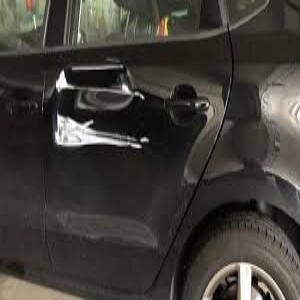door_scratch: (26, 66, 151, 153)
